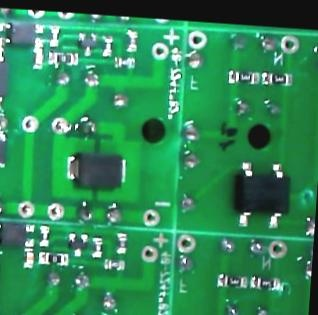chip-capacitor: (31, 45, 45, 68), (22, 245, 36, 268)
chip-resistor: (248, 273, 284, 291), (46, 48, 79, 67), (226, 67, 260, 85), (214, 271, 248, 289), (36, 248, 69, 266), (260, 70, 293, 86), (102, 255, 126, 272), (90, 232, 104, 259), (100, 32, 115, 57), (124, 28, 140, 51), (112, 54, 136, 69), (37, 222, 51, 247), (46, 23, 61, 46), (114, 230, 128, 254)
diode: (64, 148, 128, 190)
ic: (229, 158, 295, 231), (0, 19, 45, 46), (0, 218, 36, 247)
transistor: (66, 229, 90, 257), (76, 30, 99, 56)
